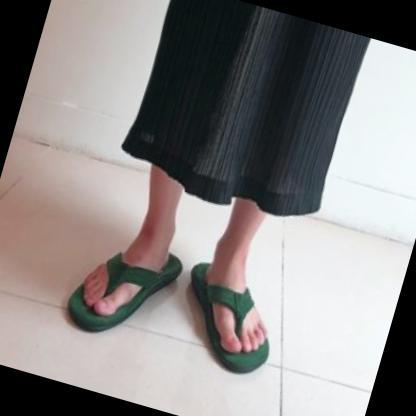no_safety-shoe: (47, 212, 192, 388), (156, 236, 293, 404)
